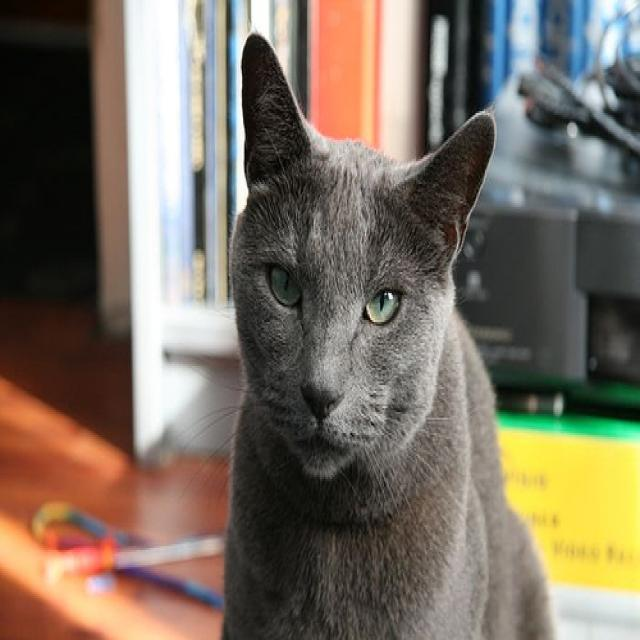Russian_Blue: (230, 28, 498, 488)
